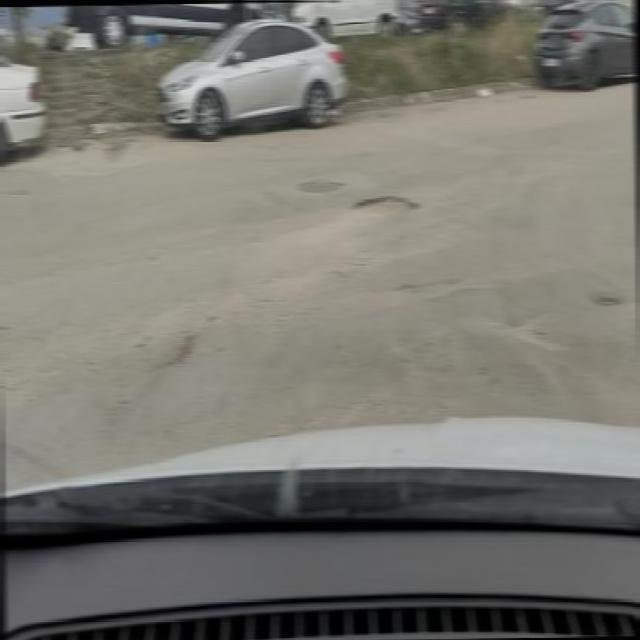Pothole: (351, 190, 430, 225)
